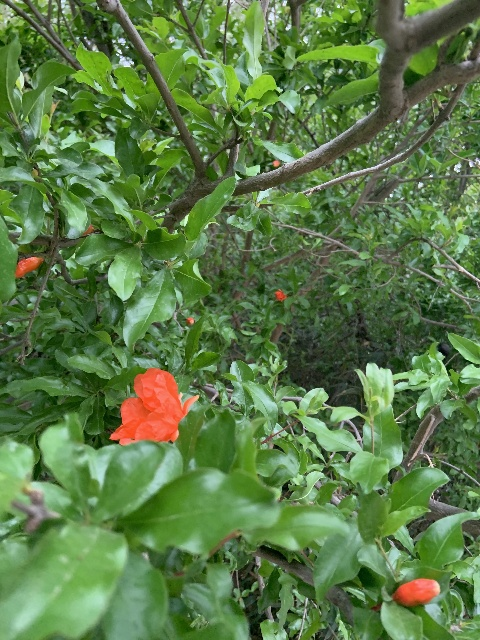bud: (393, 577, 440, 606), (13, 256, 43, 278), (186, 317, 194, 325), (272, 160, 280, 167)
flower: (109, 368, 199, 445), (274, 288, 287, 302)
